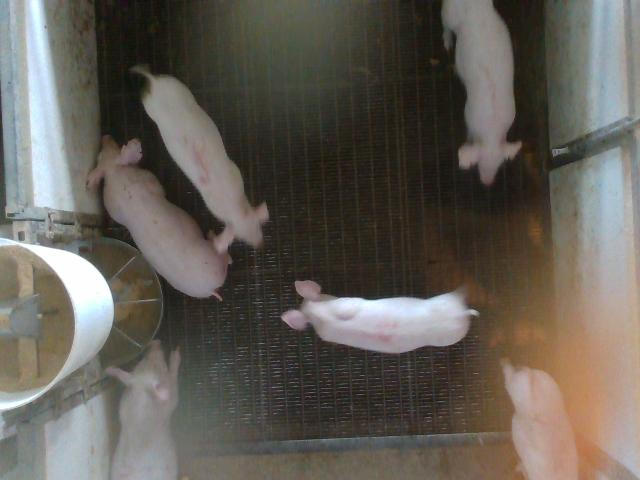pig-4: (281, 281, 479, 353)
pig-5: (131, 66, 269, 251)
